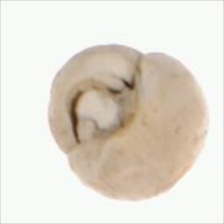L3: (67, 76, 144, 147)
L4: (49, 44, 209, 202)
